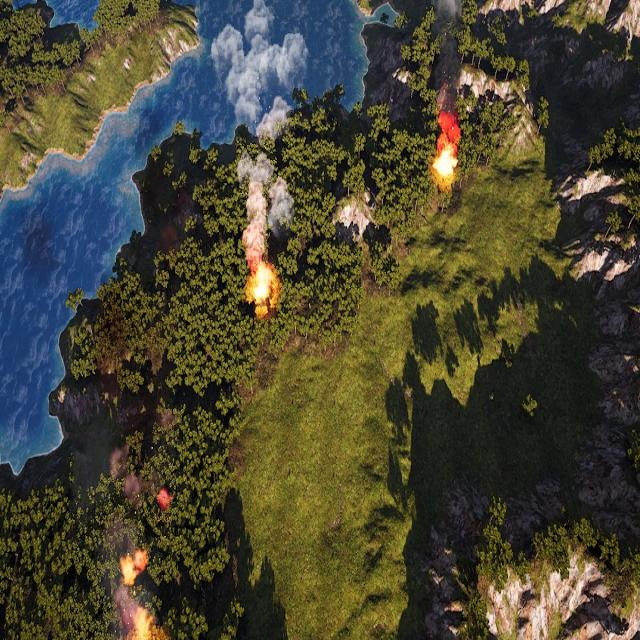fire: (434, 119, 460, 180), (247, 262, 275, 306), (121, 550, 148, 585), (134, 605, 156, 640), (157, 488, 175, 511)
smoke: (210, 0, 310, 257), (433, 0, 462, 141), (113, 582, 139, 640)
